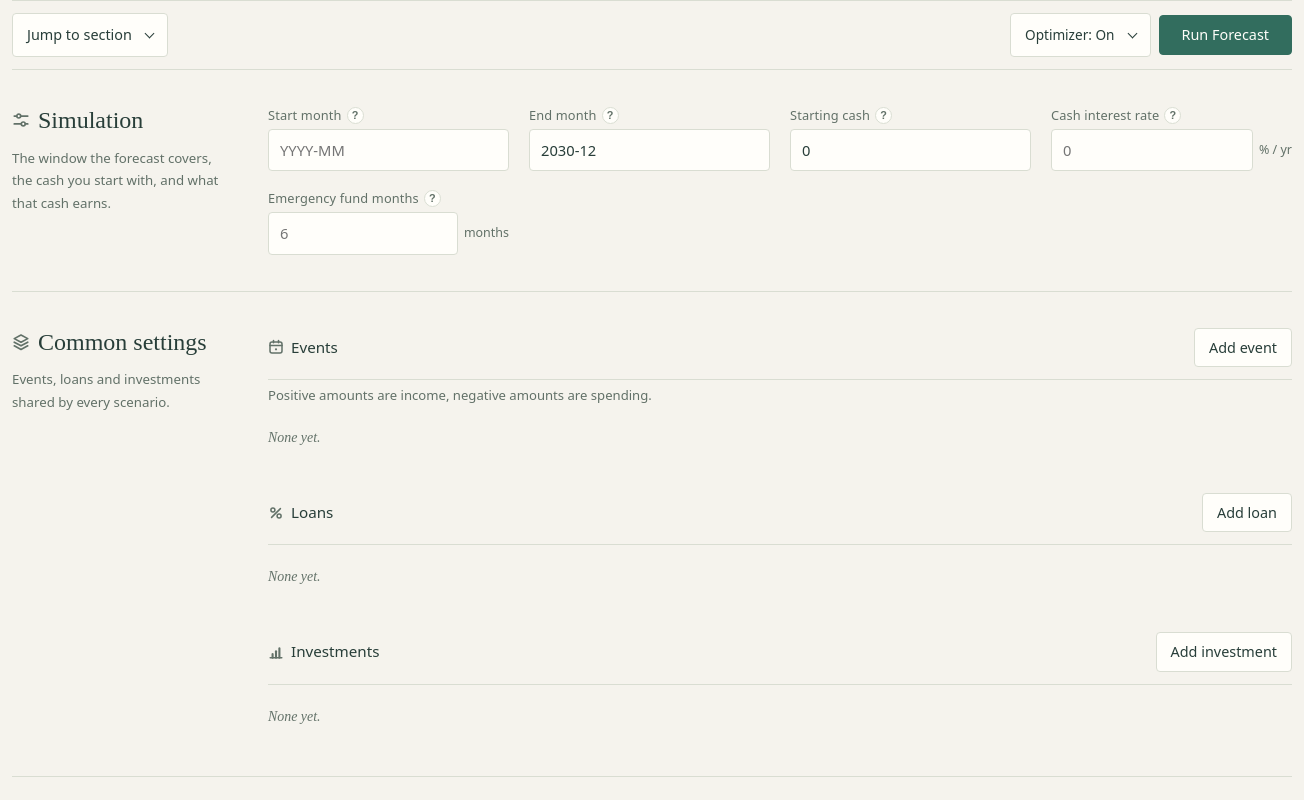
Scenario: finding optimized events › lists all optimized events on demand
The image size is (1304, 800).
Click the button with class "optctl__list" at (1080, 35), box [1010, 13, 1150, 57]
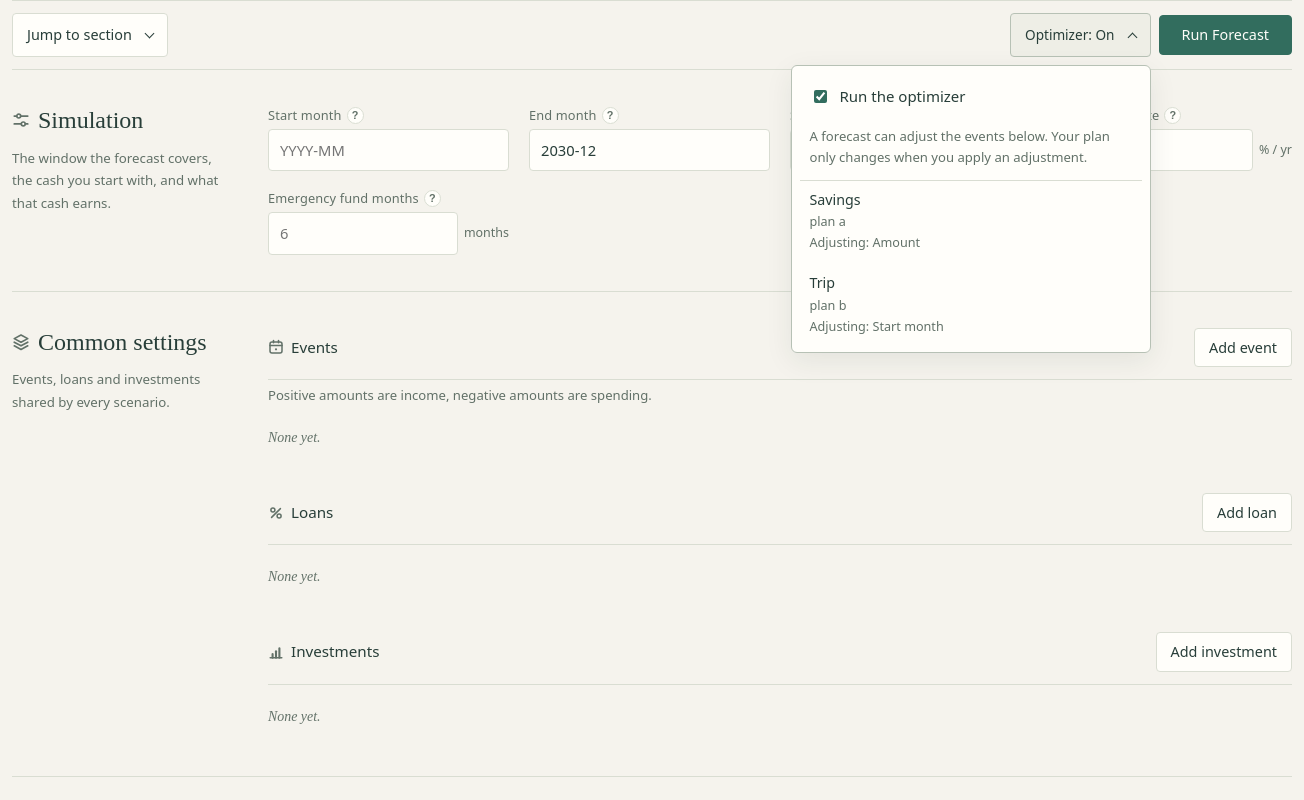
Expected: the element with class "optctl__panel" is shown, [790, 65, 1150, 352]
Expected: the button with class "optctl__list" is expanded, [1010, 13, 1150, 57]
Expected: the button with class "optctl__entry" shows "plan a", [800, 181, 1142, 260]
